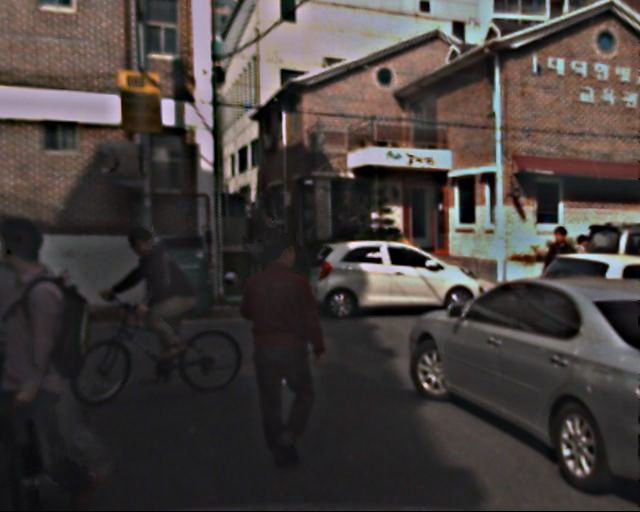person: (5, 231, 94, 475), (241, 241, 331, 461), (134, 224, 186, 351), (537, 224, 585, 340), (246, 219, 291, 274), (230, 265, 240, 289)
